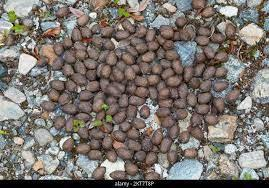Elk: (48, 29, 212, 156)
